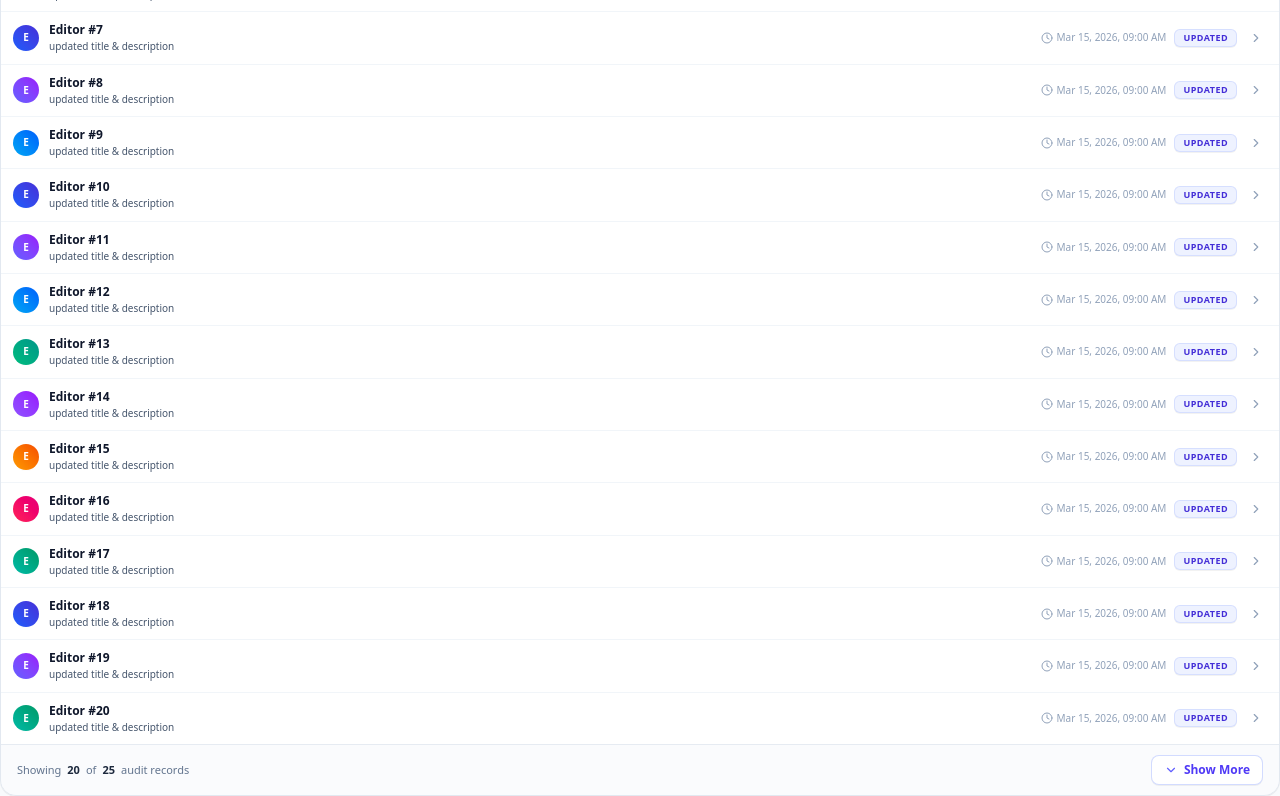
Ticket Audit Features › TicketAuditTimeline Component › shows "Show More" button and supports pagination when audits count exceeds 20
(page scrolled)
Check: the text "Editor #21" is not shown
Note: Click Show More
Step 1. Click the button "Show More" → [1207, 770], box [1151,755,1263,785]
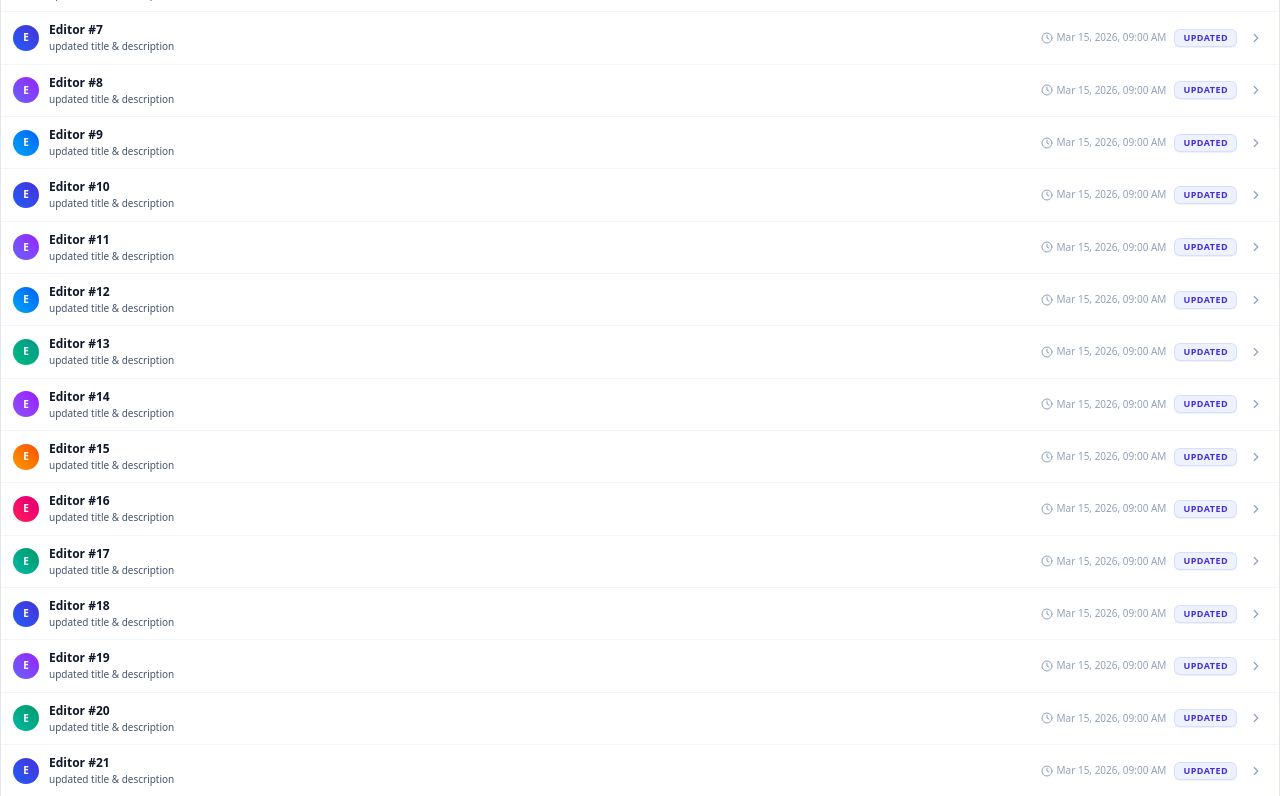
Check: the text "Editor #21" is shown, box [49,755,110,771]
Check: the text "Show More" is gone
